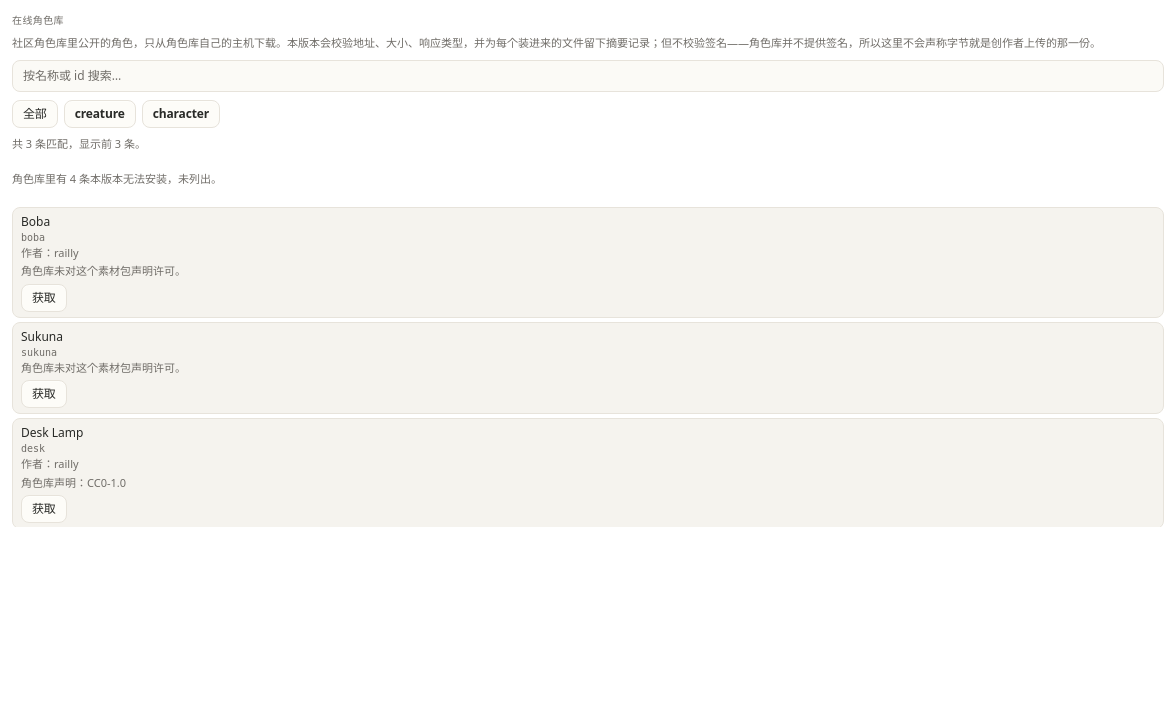
Test: the catalogue browser › keeps the list on screen when a download is refused, and says what refused
Click the button with test id "pet-catalogue-install-boba": [44, 298] box [21, 284, 67, 312]
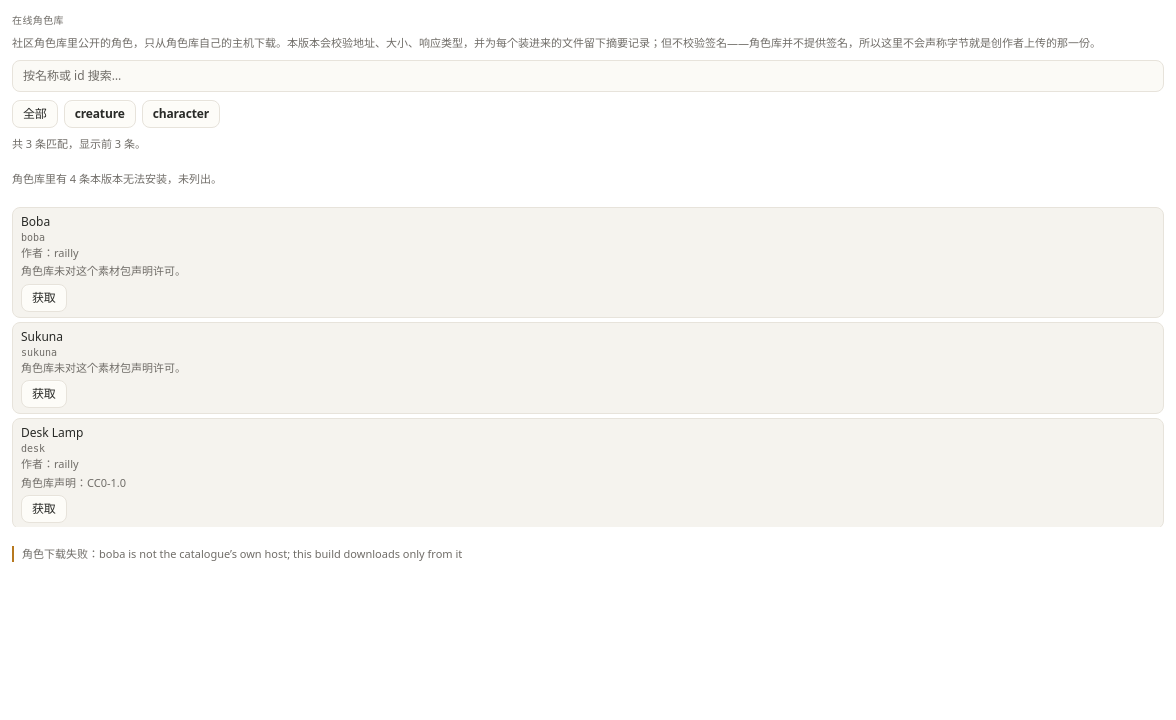
Now the text with test id "pet-catalogue-failure" shows "downloads only from", box [22, 546, 462, 560]
